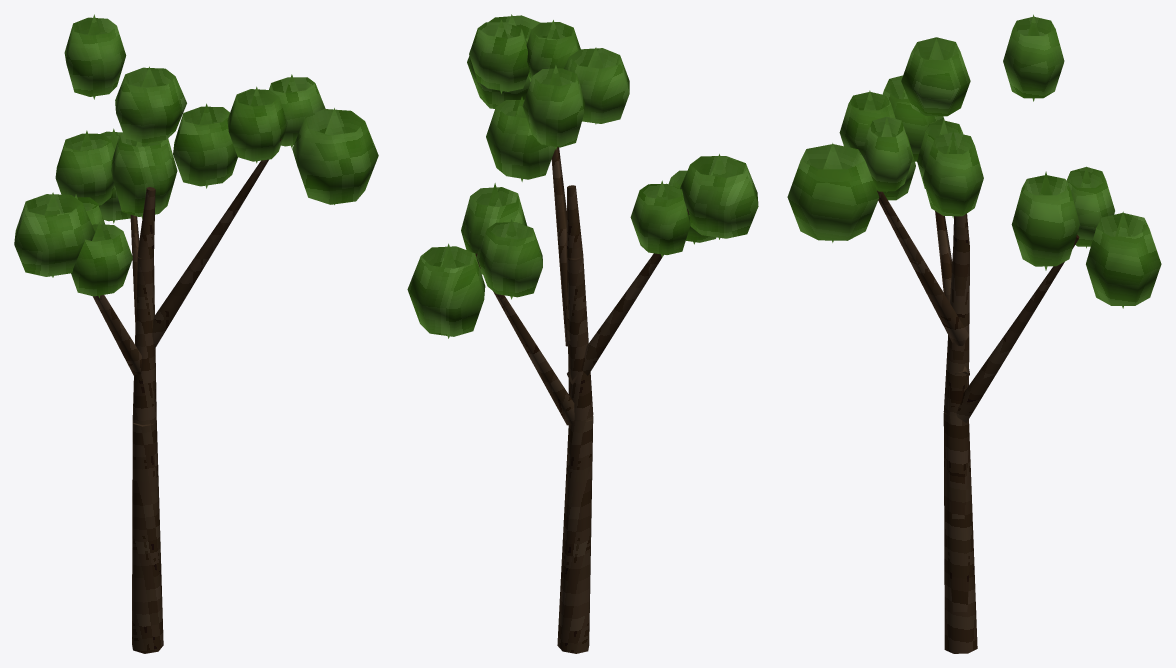
Rendered from tree03-lod1.glb.
3 views of the same model, side by side, from view 1: azimuth 30°, elevation 25°; view 2: azimuth 150°, elevation 25°; view 3: azimuth 270°, elevation 25° (orthographic). The views are drawn at different scales.
Parts seen in each view (by area): view 1: TZ_deciduous_broadleaf_Batch_01_LOD1, TZ_deciduous_broadleaf_Batch_00_LOD1; view 2: TZ_deciduous_broadleaf_Batch_01_LOD1, TZ_deciduous_broadleaf_Batch_00_LOD1; view 3: TZ_deciduous_broadleaf_Batch_01_LOD1, TZ_deciduous_broadleaf_Batch_00_LOD1.
Boxes of the visible parts, <box> form: TZ_deciduous_broadleaf_Batch_01_LOD1: <box>14,14,378,297</box>; TZ_deciduous_broadleaf_Batch_00_LOD1: <box>93,139,281,653</box>; TZ_deciduous_broadleaf_Batch_01_LOD1: <box>407,14,758,338</box>; TZ_deciduous_broadleaf_Batch_00_LOD1: <box>475,147,689,653</box>; TZ_deciduous_broadleaf_Batch_01_LOD1: <box>787,14,1161,308</box>; TZ_deciduous_broadleaf_Batch_00_LOD1: <box>877,190,1079,653</box>.
Bounding box in the file's own units: 3.91 × 7.2 × 3.9.
2 materials, 2 textured.
